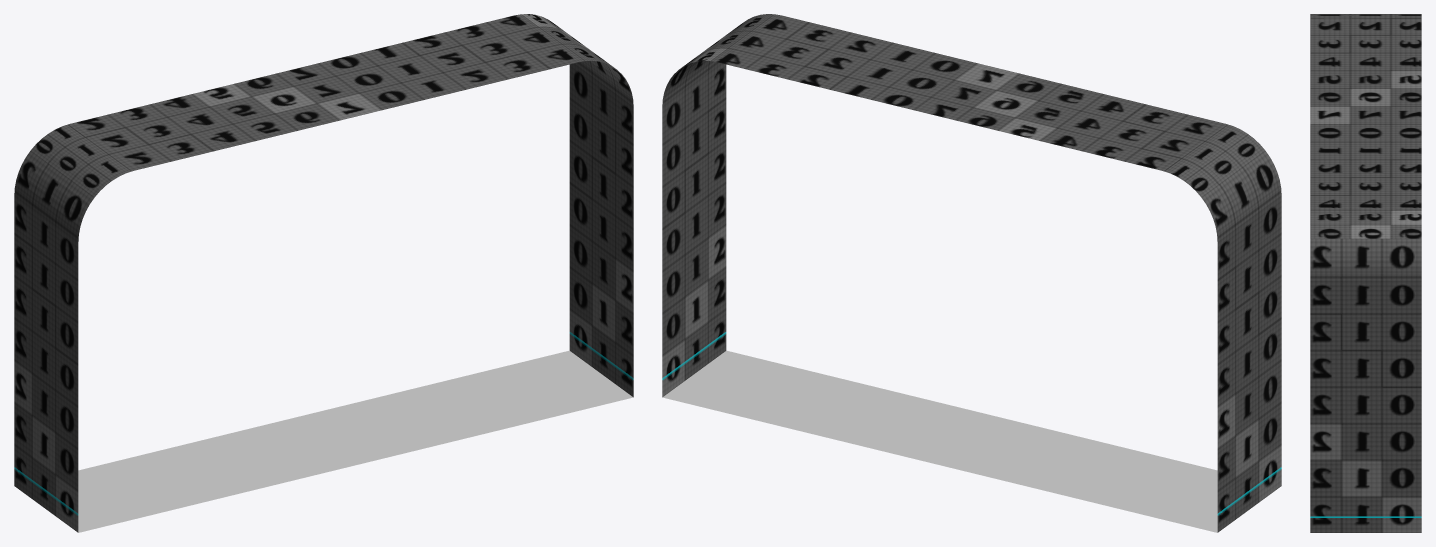
The model's file is WallFrameRound500x300x100cm.FBX.
3 renders of one model, left to right at view 1: azimuth 30°, elevation 25°; view 2: azimuth 150°, elevation 25°; view 3: azimuth 270°, elevation 25°, orthographic. The views are drawn at different scales.
Parts seen in each view (by area): view 1: WallFrameRound500x300x100cm; view 2: WallFrameRound500x300x100cm; view 3: WallFrameRound500x300x100cm.
Boxes of the visible parts, box(x1,y1,x2,y2) form: WallFrameRound500x300x100cm: box(14, 14, 633, 532); WallFrameRound500x300x100cm: box(662, 14, 1281, 532); WallFrameRound500x300x100cm: box(1310, 14, 1421, 532).
Size of the model in its own units: 500 by 300 by 100.
